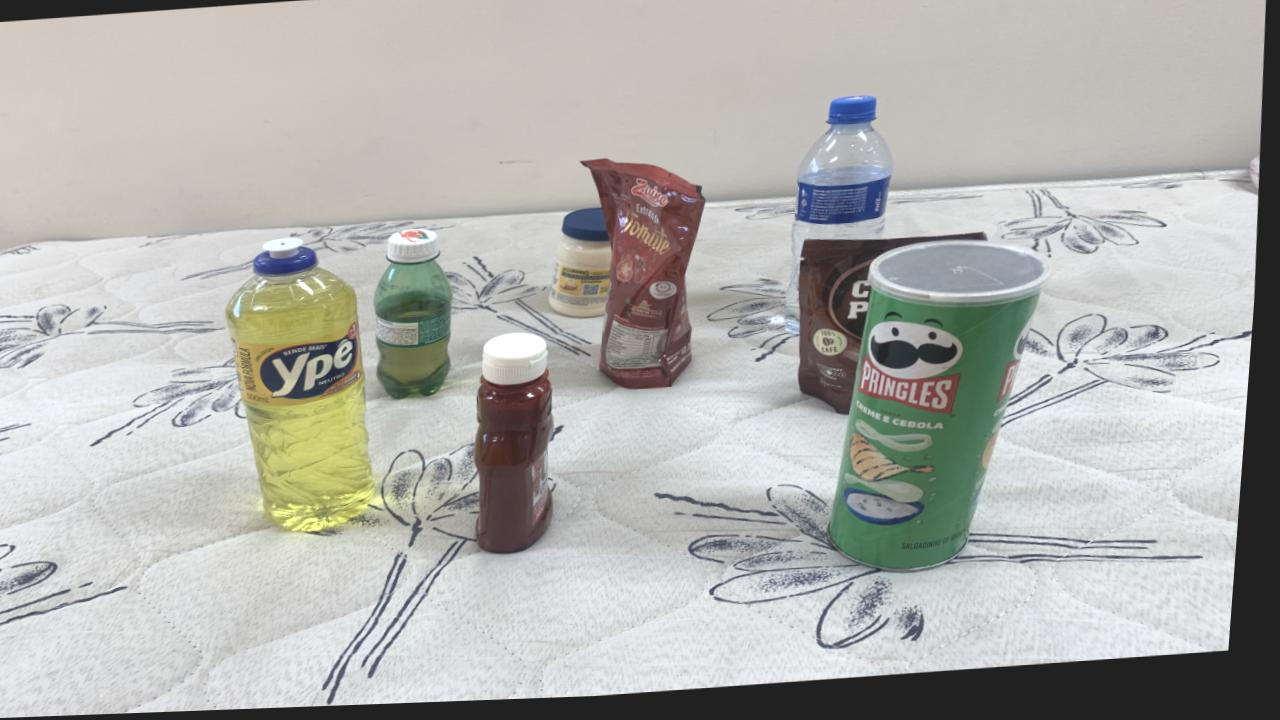Coffee-Pantry_Items: (803, 241, 991, 420)
Detergent-Cleanup_Items: (232, 239, 381, 535)
Guarana-Drinks: (380, 233, 458, 402)
Ketchup-Pantry_Items: (481, 338, 560, 558)
Mayonnaise-Pantry_Items: (552, 212, 616, 323)
Pringles-Snacks: (839, 247, 1056, 578)
Tomato_Sauce-Pantry_Items: (586, 164, 710, 394)
Water_Bottle-Drinks: (789, 103, 896, 339)
